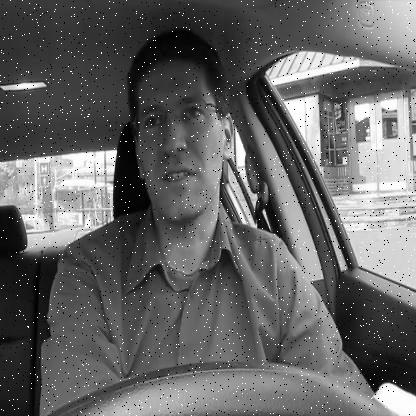no_seatbelt: (110, 5, 288, 392)
